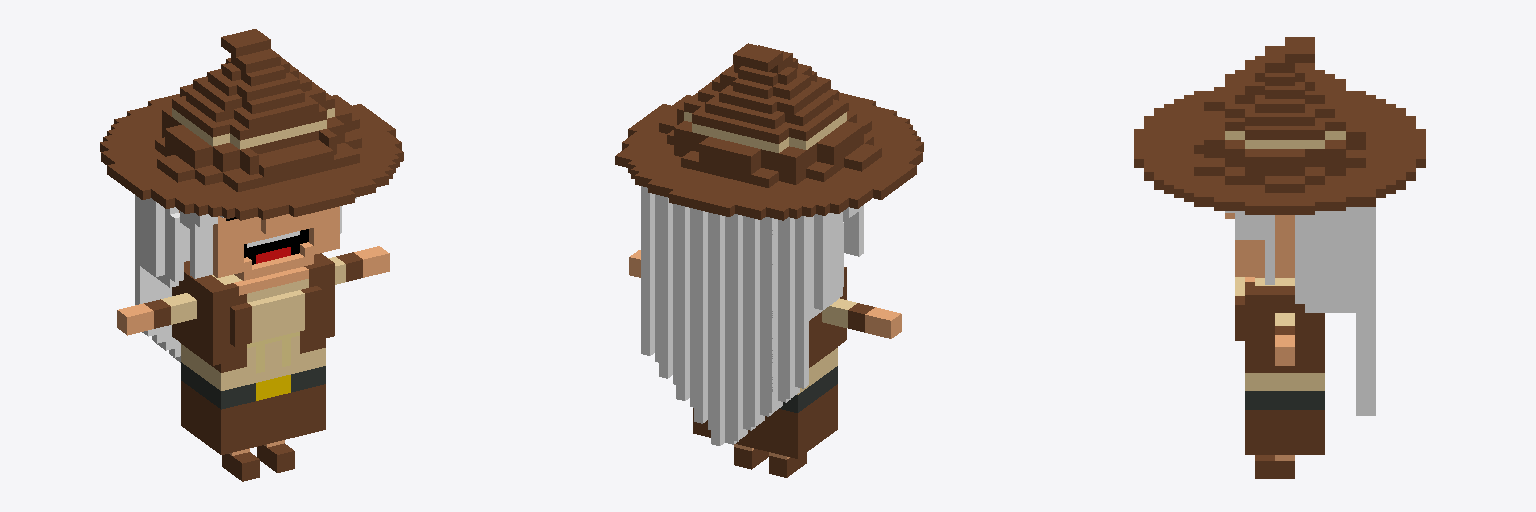
3 views of the same model, side by side, from view 1: azimuth 30°, elevation 25°; view 2: azimuth 150°, elevation 25°; view 3: azimuth 270°, elevation 25° (orthographic).
Visible parts, largest first — view 1: object 1; view 2: object 1; view 3: object 1.
Part boxes in pixels (bbox=[...]): object 1: bbox=[100, 29, 403, 481]; object 1: bbox=[615, 43, 923, 477]; object 1: bbox=[1134, 37, 1425, 478].
Size of the model in its own units: 3 by 4.6 by 2.9.
1 materials, 1 textured.